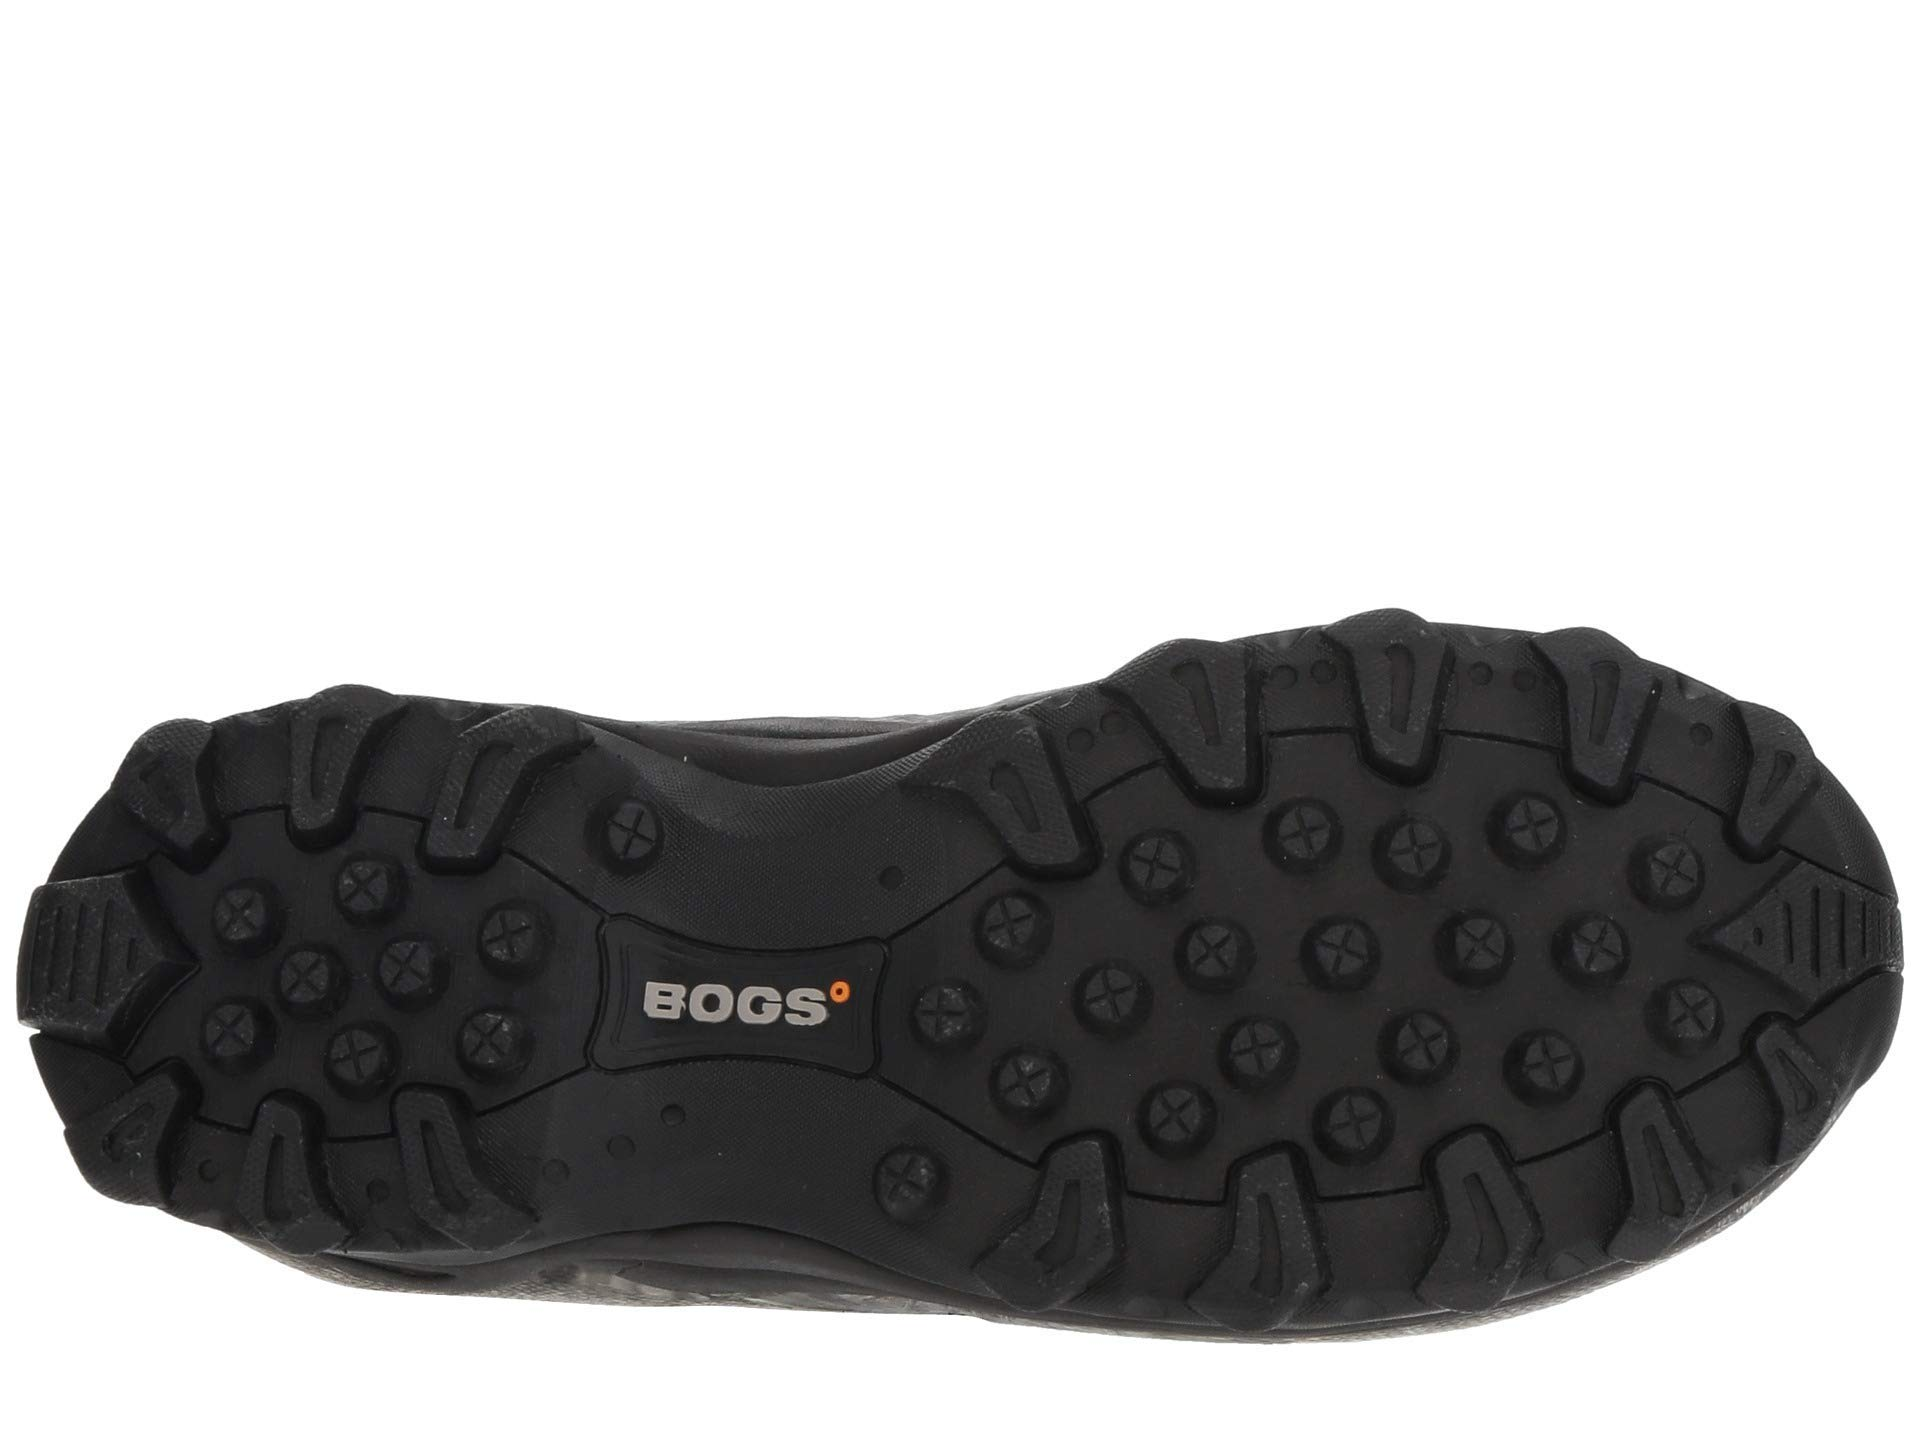circle: (1172, 785, 1553, 1066), (222, 1071, 547, 1268), (224, 861, 470, 1026), (615, 912, 874, 1057), (1459, 643, 1544, 706)
line: (222, 1071, 547, 1268), (5, 858, 192, 1047), (1708, 832, 1905, 1012)
polygon: (5, 858, 192, 1047), (1708, 832, 1905, 1012)
quad: (222, 1071, 547, 1268)
star: (1172, 785, 1553, 1066), (224, 861, 470, 1026)
text: (615, 912, 874, 1057)
